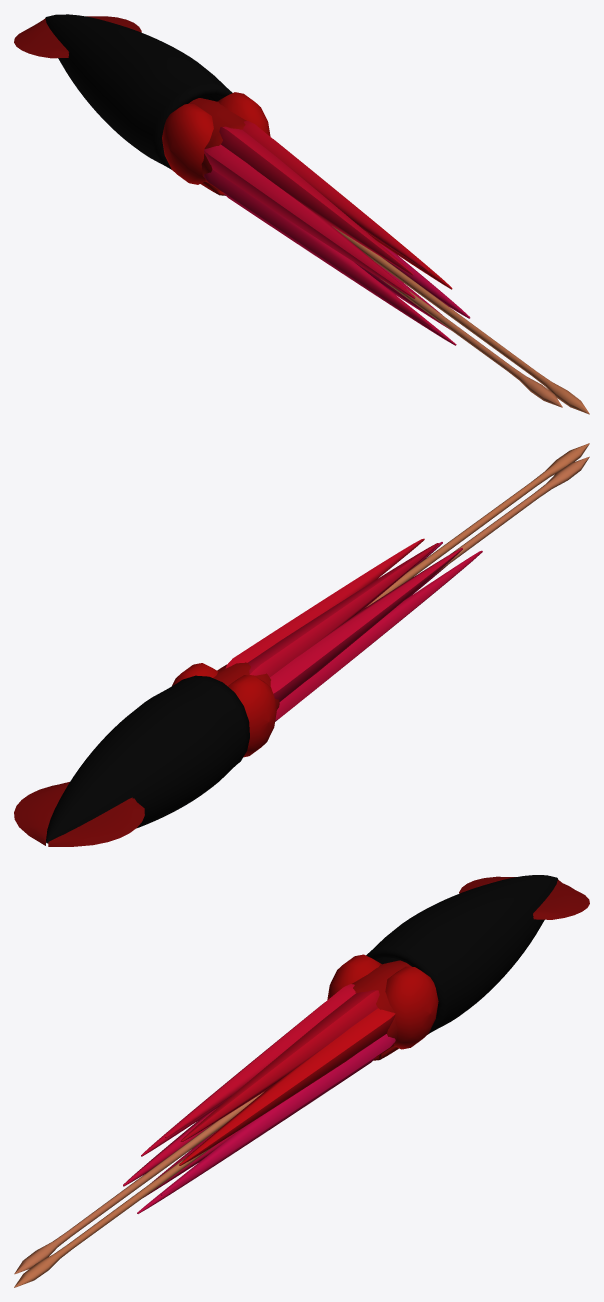
Rendered from giant_squid_lo.glb.
3 renders of one model, top to bottom at view 1: azimuth 30°, elevation 25°; view 2: azimuth 150°, elevation 25°; view 3: azimuth 330°, elevation 25°, orthographic. The views are drawn at different scales.
Visible parts, largest first — view 1: giant_squid_lo; view 2: giant_squid_lo; view 3: giant_squid_lo.
Boxes of the visible parts, <box> form: giant_squid_lo: <box>14,14,589,414</box>; giant_squid_lo: <box>14,443,589,846</box>; giant_squid_lo: <box>14,875,589,1287</box>.
Bounding box in the file's own units: 0.8411 × 0.687 × 6.95.
